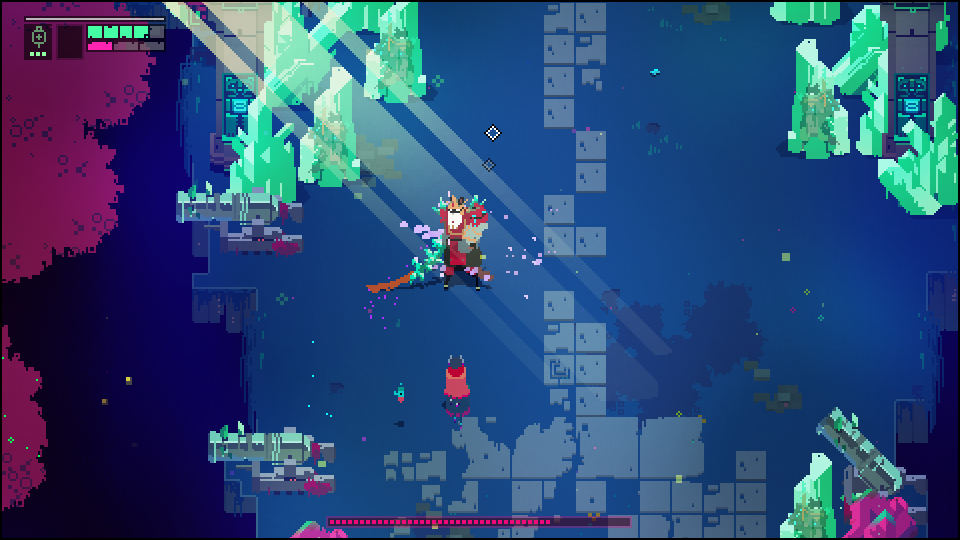hanged_man: (398, 189, 502, 296)
player: (441, 350, 474, 411)
